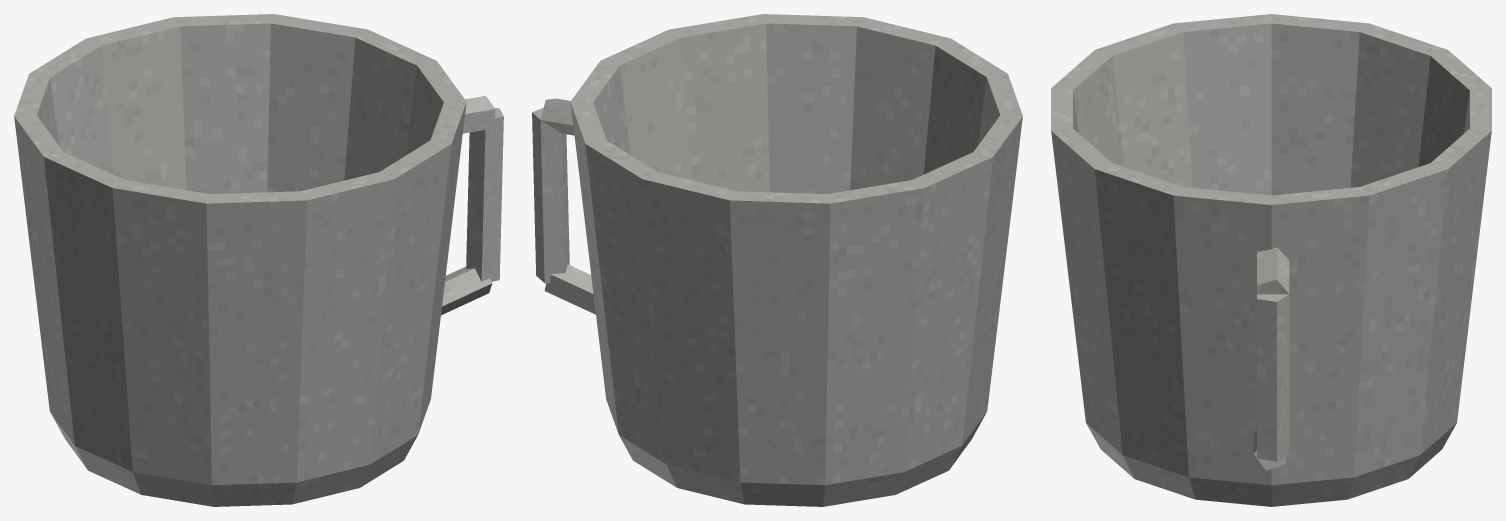
File: tin_cup.glb
3 renders of one model, left to right at view 1: azimuth 30°, elevation 25°; view 2: azimuth 150°, elevation 25°; view 3: azimuth 270°, elevation 25°, orthographic.
Visible parts, largest first — view 1: block_hollow cup bowl, block_bent cup handle 1, block_bent cup handle 2, block_bent cup handle 0; view 2: block_hollow cup bowl, block_bent cup handle 1, block_bent cup handle 2, block_bent cup handle 0; view 3: block_hollow cup bowl, block_bent cup handle 1, block_bent cup handle 0.
Boxes of the visible parts, x1=… form: block_hollow cup bowl: x1=14, y1=14, x2=466, y2=506; block_bent cup handle 1: x1=466, y1=108, x2=503, y2=281; block_bent cup handle 2: x1=441, y1=266, x2=492, y2=315; block_bent cup handle 0: x1=463, y1=95, x2=495, y2=133; block_hollow cup bowl: x1=570, y1=14, x2=1022, y2=506; block_bent cup handle 1: x1=532, y1=108, x2=569, y2=283; block_bent cup handle 2: x1=544, y1=264, x2=595, y2=314; block_bent cup handle 0: x1=540, y1=98, x2=574, y2=135; block_hollow cup bowl: x1=1051, y1=14, x2=1491, y2=506; block_bent cup handle 1: x1=1257, y1=294, x2=1289, y2=461; block_bent cup handle 0: x1=1257, y1=247, x2=1289, y2=294.
Bounding box in the file's own units: 0.1203 × 0.0814 × 0.1005.
Materials: 1 (1 with a texture image).
